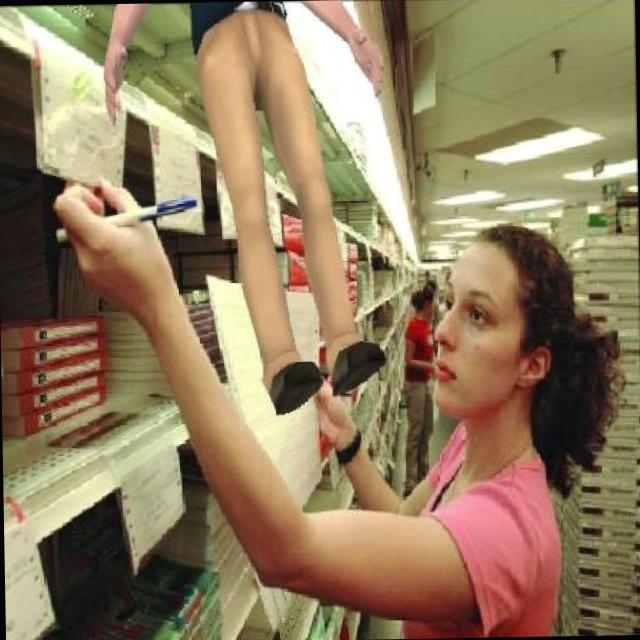Person: (98, 0, 390, 425)
